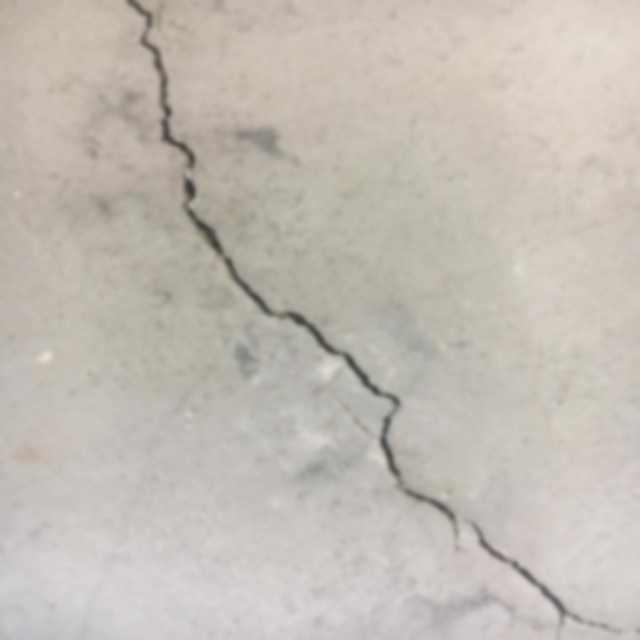SurfaceCrack: (33, 1, 639, 639)
